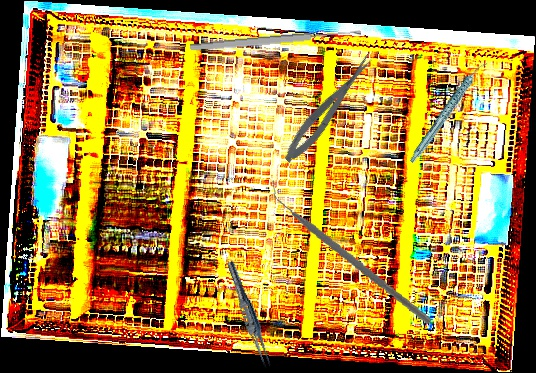Chopper: (257, 178, 446, 325)
Handpiece: (392, 60, 505, 164)
Micro Scissor: (277, 51, 381, 168)
Surgical Spoon: (189, 27, 362, 53)
Tissue Forceps: (221, 259, 277, 370)
